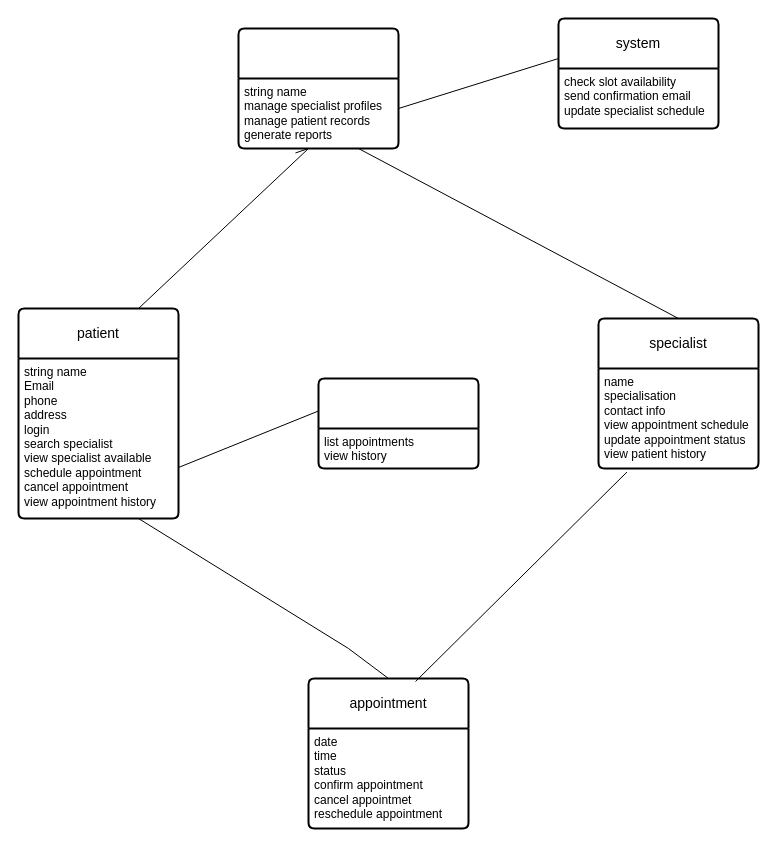
This 776x846 diagram has some shape labels left out. The shapes that lost their labels are listed below. From the top down, each one's box as (x1, y1, x2, y2) in pixels, then its label:
(237, 27, 399, 149): Admin
(317, 377, 479, 469): appiontment history
